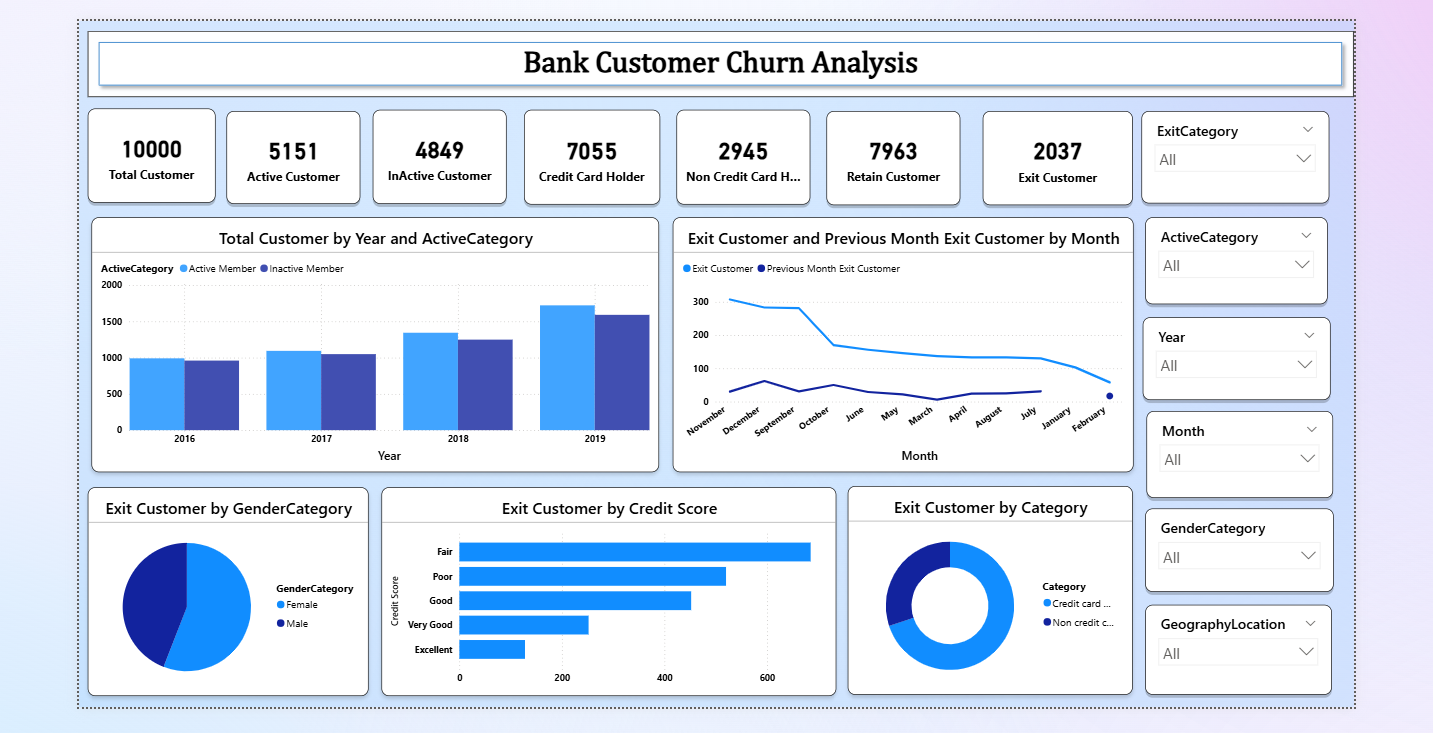

Layout of this report page (visuals, bound fields, positions):
{"tool":"powerbi","page":{"name":"Dashboard 1","canvas":[1700,915],"ordinal":1},"visuals":[{"type":"card","fields":{"Values":["Bank_Customers_Churn.Total Customer"]},"box":[12.3,117.3,170.4,125.4],"z":0},{"type":"shape","box":[12.4,13.9,1688,88],"z":1000},{"type":"card","fields":{"Values":["Bank_Customers_Churn.Active Customer"]},"box":[196.3,120,178.6,124.1],"z":2000},{"type":"card","fields":{"Values":["Bank_Customers_Churn.InActive Customer"]},"box":[391.3,118.6,178.6,125.4],"z":3000},{"type":"card","fields":{"Values":["Bank_Customers_Churn.Credit Card Holder"]},"box":[593.3,118.7,181.3,126.7],"z":4000},{"type":"card","fields":{"Values":["Bank_Customers_Churn.Non Credit Card Holder"]},"box":[796,118.7,178.7,126.7],"z":5000},{"type":"card","fields":{"Values":["Bank_Customers_Churn.Exit Customer"]},"box":[1205.7,120,200,125.7],"z":6000},{"type":"card","fields":{"Values":["Bank_Customers_Churn.Retain Customer"]},"box":[996,120,178.7,125.3],"z":7000},{"type":"clusteredColumnChart","fields":{"Category":["Date.Year"],"Y":["Bank_Customers_Churn.Total Customer"],"Series":["ActiveCustomer.ActiveCategory"]},"box":[17.1,261.4,757.1,340],"z":8000},{"type":"pieChart","fields":{"Category":["Gender.GenderCategory"],"Y":["Bank_Customers_Churn.Exit Customer"]},"box":[12,621.3,374.7,278.7],"z":9000},{"type":"donutChart","fields":{"Y":["Bank_Customers_Churn.Exit Customer"],"Category":["Credit Card.Category"]},"box":[1025.7,620,380,278.6],"z":10000},{"type":"barChart","fields":{"Category":["Bank_Customers_Churn.Credit Score"],"Y":["Bank_Customers_Churn.Exit Customer"]},"box":[402.7,621.3,606.7,278.7],"z":11000},{"type":"lineChart","fields":{"Y":["Bank_Customers_Churn.Exit Customer","Bank_Customers_Churn.Previous Month Exit Customer"],"Category":["Date.Month"]},"box":[791.4,261.4,614.3,340],"z":12000},{"type":"slicer","fields":{"Values":["Gender.GenderCategory"]},"box":[1421.4,650,251.4,111.4],"z":13000},{"type":"slicer","fields":{"Values":["Date.Year"]},"box":[1418.6,395.7,250,110],"z":14000},{"type":"slicer","fields":{"Values":["Geography.GeographyLocation"]},"box":[1421.4,778.6,248.6,120],"z":15000},{"type":"slicer","fields":{"Values":["Date.Month"]},"box":[1422.9,520,248.6,115.7],"z":16000},{"type":"slicer","fields":{"Values":["Exit Customer.ExitCategory"]},"box":[1417.1,120,250,122.9],"z":17000},{"type":"slicer","fields":{"Values":["ActiveCustomer.ActiveCategory"]},"box":[1421.4,261.4,242.9,115.7],"z":18000}]}

Visuals, with their boxes on the page's 1700x915 design canvas (x1, y1, x2, y2). These are canvas units, not pixel positions in the 1433x733 screenshot, which may show the page scaled, cropped or inside an application window:
card - Bank_Customers_Churn.Total Customer: {"left": 12, "top": 117, "right": 183, "bottom": 243}
shape: {"left": 12, "top": 14, "right": 1700, "bottom": 102}
card - Bank_Customers_Churn.Active Customer: {"left": 196, "top": 120, "right": 375, "bottom": 244}
card - Bank_Customers_Churn.InActive Customer: {"left": 391, "top": 119, "right": 570, "bottom": 244}
card - Bank_Customers_Churn.Credit Card Holder: {"left": 593, "top": 119, "right": 775, "bottom": 245}
card - Bank_Customers_Churn.Non Credit Card Holder: {"left": 796, "top": 119, "right": 975, "bottom": 245}
card - Bank_Customers_Churn.Exit Customer: {"left": 1206, "top": 120, "right": 1406, "bottom": 246}
card - Bank_Customers_Churn.Retain Customer: {"left": 996, "top": 120, "right": 1175, "bottom": 245}
clusteredColumnChart - Date.Year x Bank_Customers_Churn.Total Customer: {"left": 17, "top": 261, "right": 774, "bottom": 601}
pieChart - Gender.GenderCategory x Bank_Customers_Churn.Exit Customer: {"left": 12, "top": 621, "right": 387, "bottom": 900}
donutChart - Bank_Customers_Churn.Exit Customer x Credit Card.Category: {"left": 1026, "top": 620, "right": 1406, "bottom": 899}
barChart - Bank_Customers_Churn.Credit Score x Bank_Customers_Churn.Exit Customer: {"left": 403, "top": 621, "right": 1009, "bottom": 900}
lineChart - Bank_Customers_Churn.Exit Customer x Bank_Customers_Churn.Previous Month Exit Customer: {"left": 791, "top": 261, "right": 1406, "bottom": 601}
slicer - Gender.GenderCategory: {"left": 1421, "top": 650, "right": 1673, "bottom": 761}
slicer - Date.Year: {"left": 1419, "top": 396, "right": 1669, "bottom": 506}
slicer - Geography.GeographyLocation: {"left": 1421, "top": 779, "right": 1670, "bottom": 899}
slicer - Date.Month: {"left": 1423, "top": 520, "right": 1672, "bottom": 636}
slicer - Exit Customer.ExitCategory: {"left": 1417, "top": 120, "right": 1667, "bottom": 243}
slicer - ActiveCustomer.ActiveCategory: {"left": 1421, "top": 261, "right": 1664, "bottom": 377}
